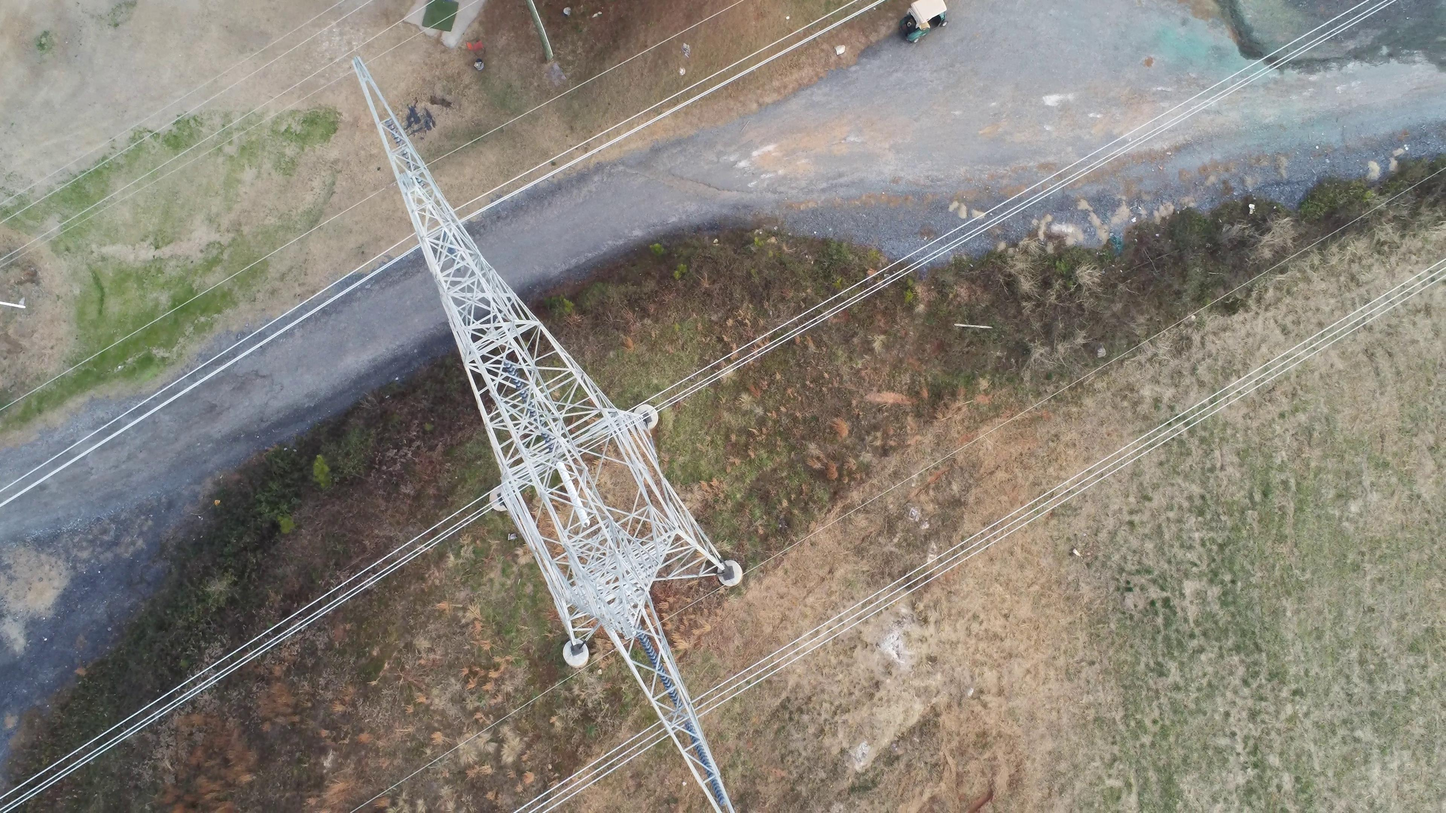power_tower: (350, 55, 742, 812)
